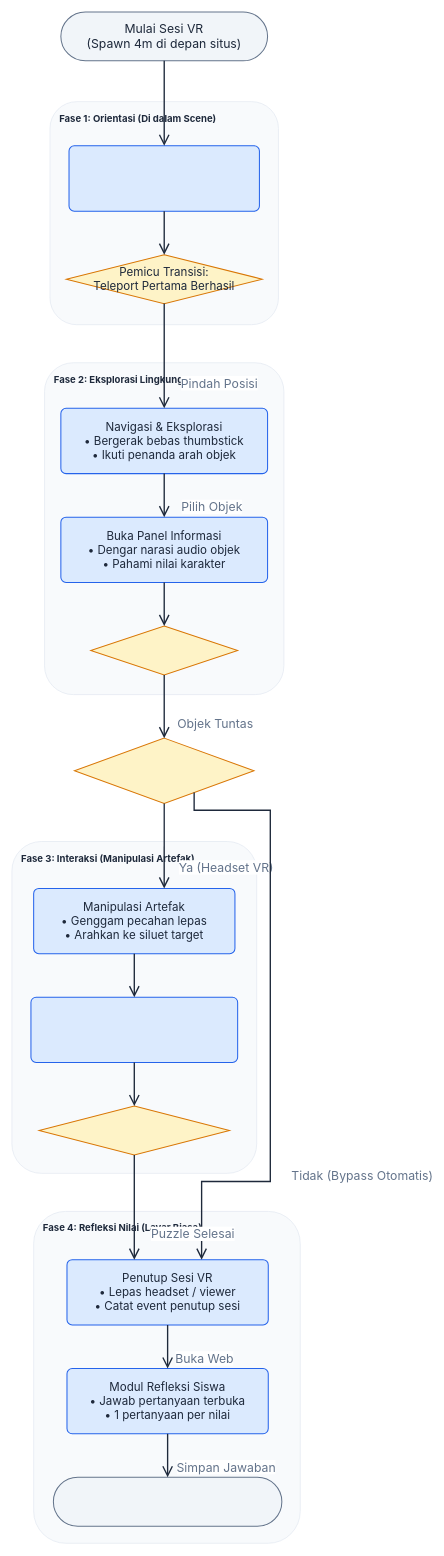
This 444x1556 diagram has some shape labels left out. Each missing label, with the centre of its shape:
"Cek Perangkat: Headset Controller 6DoF & Ada Slot Puzzle?" belongs at [164,770].
"Orientasi Ruang • Adaptasi controller • Baca petunjuk floating" belongs at [164,178].
"Pemicu Transisi: 100% Objek Diamati" belongs at [164,650].
"Pemicu Transisi: Semua Potongan Terpasang" belongs at [134,1130].
"Selesai Sesi Data tersimpan ke basis data" belongs at [167,1501].
"Snap Otomatis (0.5m) • Bunyi & kilau visual • Getaran haptic controller" belongs at [134,1029].
